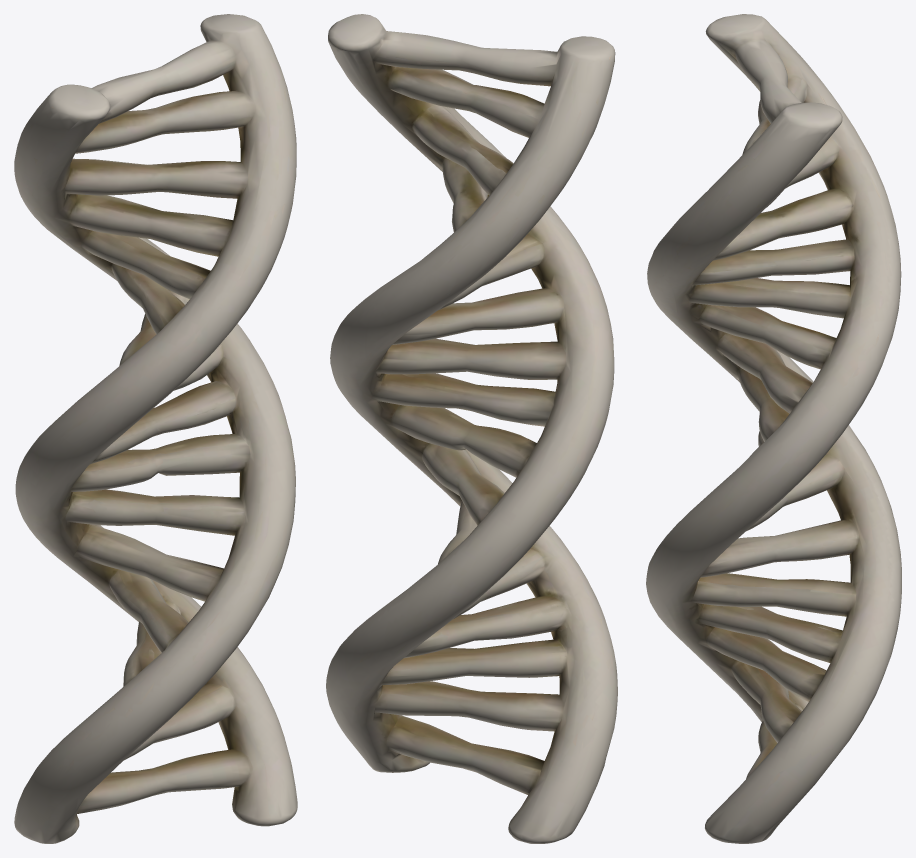
Rendered from dna.glb.
3 renders of one model, left to right at view 1: azimuth 30°, elevation 25°; view 2: azimuth 150°, elevation 25°; view 3: azimuth 270°, elevation 25°, orthographic. The views are drawn at different scales.
Visible parts, largest first — view 1: Mesh_0; view 2: Mesh_0; view 3: Mesh_0.
Boxes of the visible parts, bbox=[...] form: Mesh_0: bbox=[14, 14, 297, 843]; Mesh_0: bbox=[326, 14, 617, 843]; Mesh_0: bbox=[646, 14, 901, 843].
Bounding box in the file's own units: 0.3954 × 1.15 × 0.365.
Materials: 1 (1 with a texture image).
